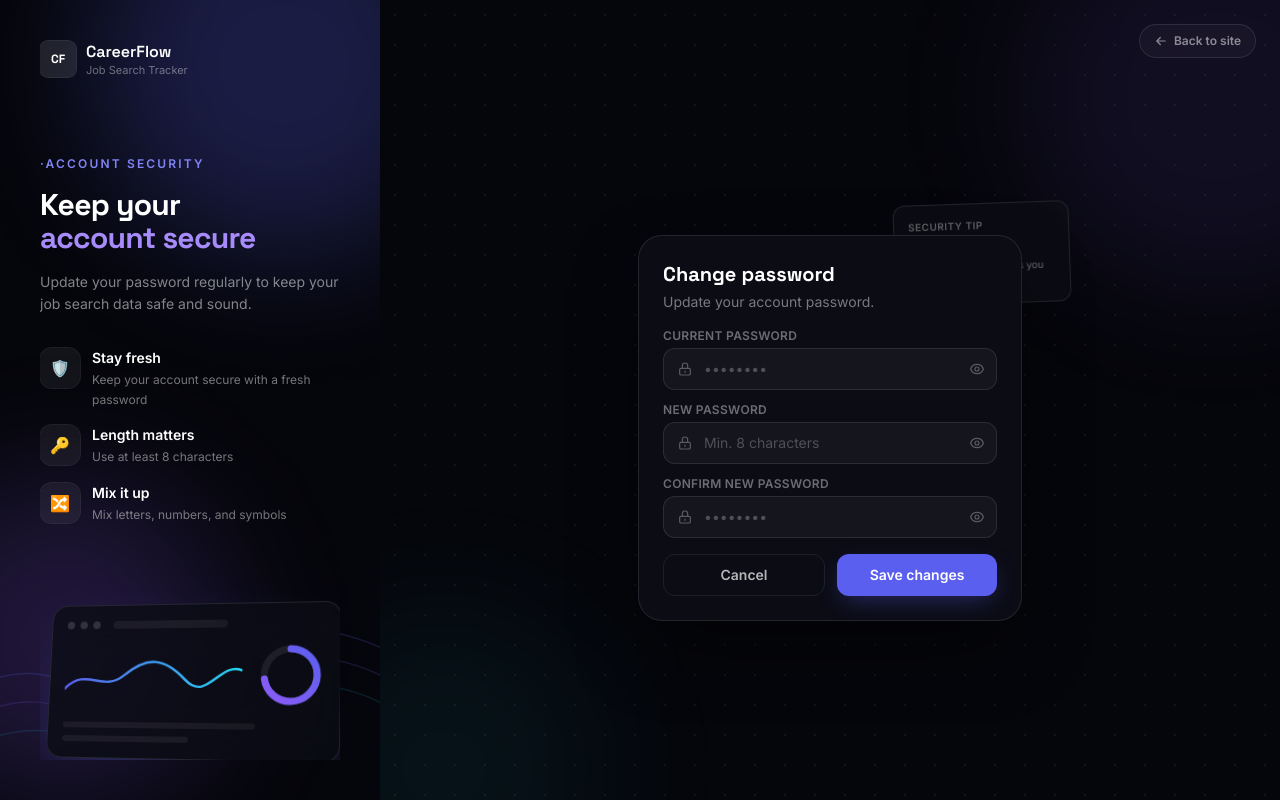
it: ChangePassword › changes the password, shows success, and clears the form
This screenshot has width=1280, height=800.
In the password field with placeholder "••••••••" below "Current password": (830, 369) [663,348,997,390], type "oldpass123"
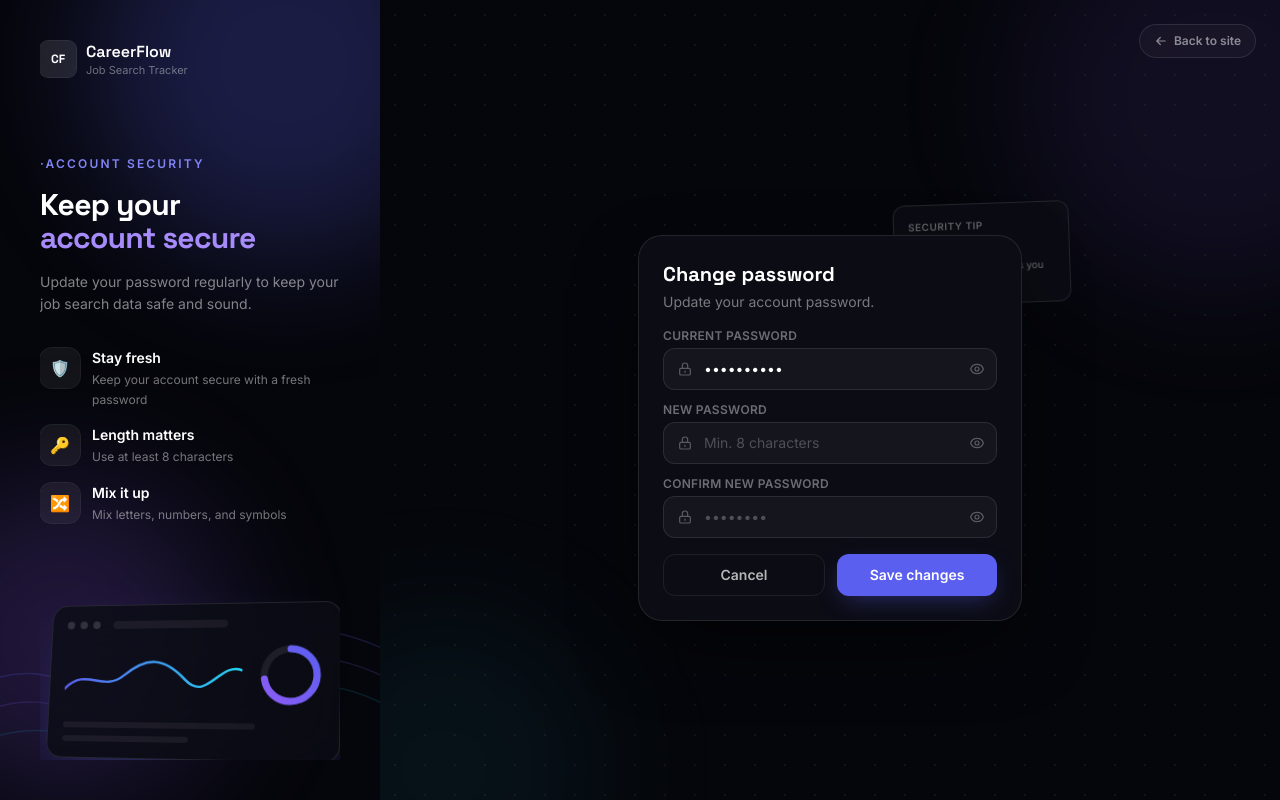
In the password field with placeholder "Min. 8 characters": (830, 443) [663,422,997,464], type "newpass123"
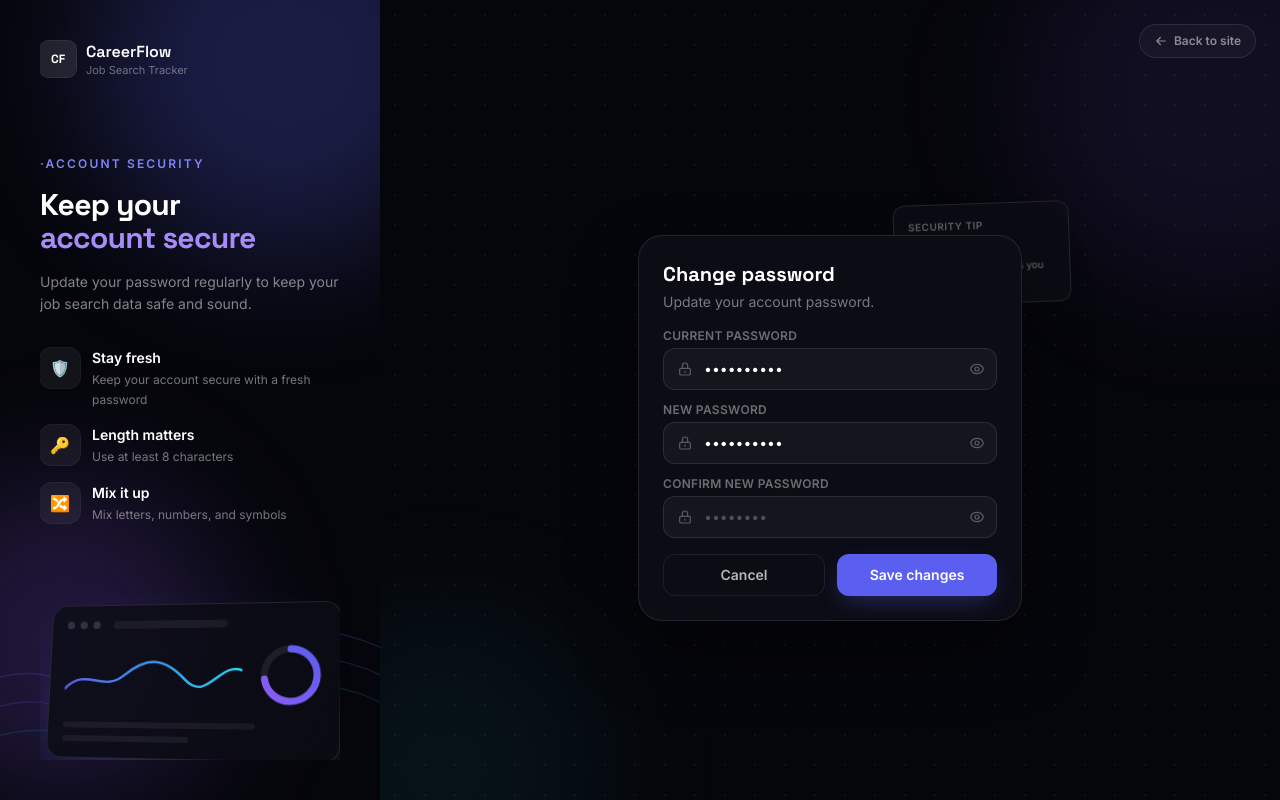
In the password field with placeholder "••••••••": (830, 517) [663,496,997,538], type "newpass123"
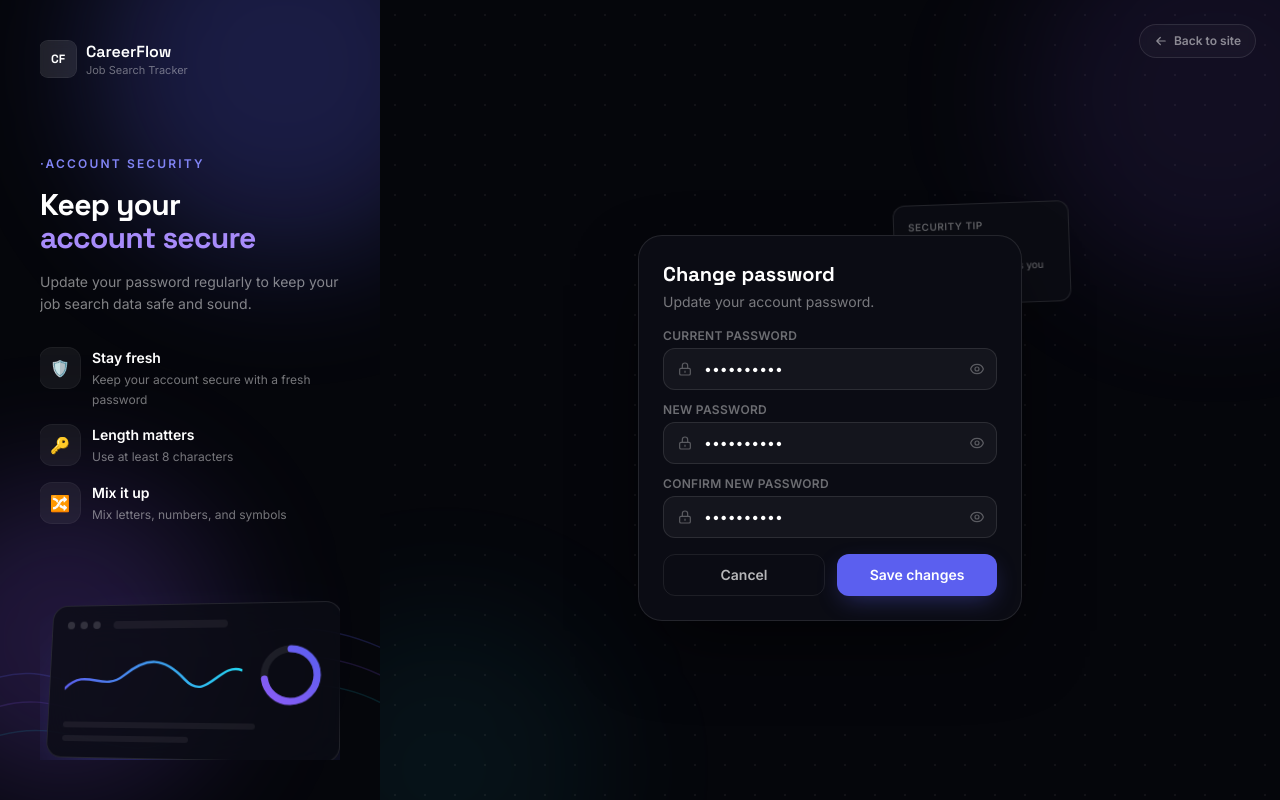
Click the button "Save changes": click(917, 575) [837,554,997,596]
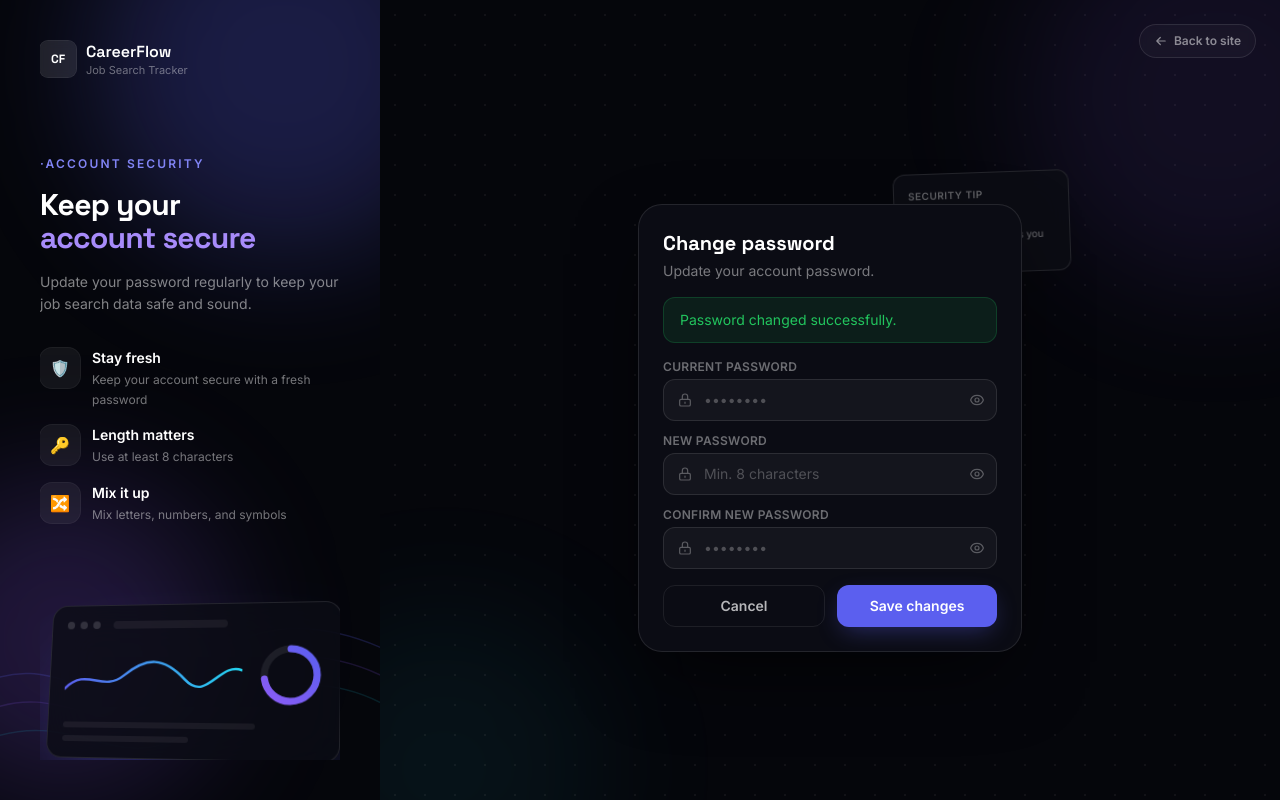
Expected: the text "Password changed successfully." is shown, [663,297,997,343]
Expected: the password field with placeholder "••••••••" below "Current password" is empty, [663,379,997,421]
